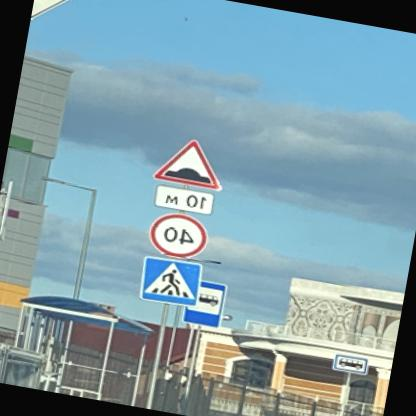crosswalk: (139, 253, 207, 309)
speedlimit: (148, 209, 212, 261)
